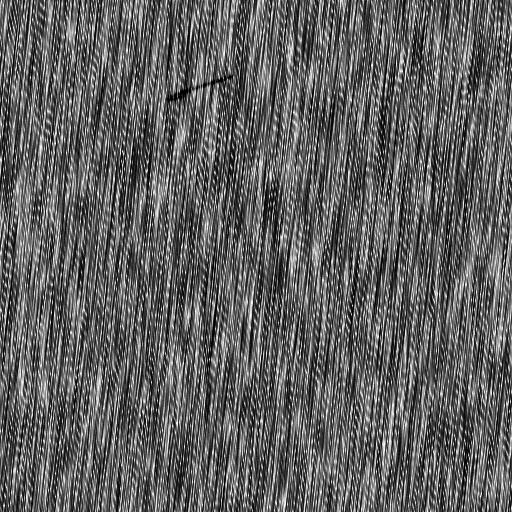DefectTypeC: (169, 71, 235, 100)
